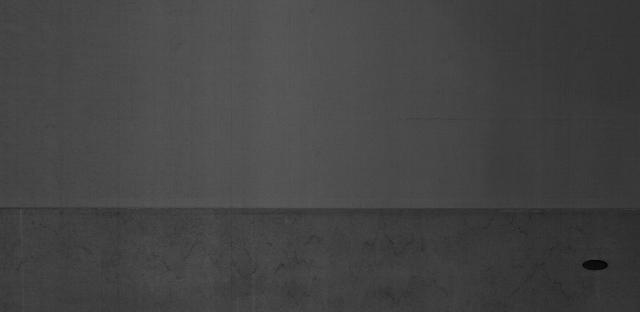punching_hole: (580, 258, 610, 274)
silk_spot: (7, 218, 569, 307)
welding_line: (3, 200, 633, 217)
